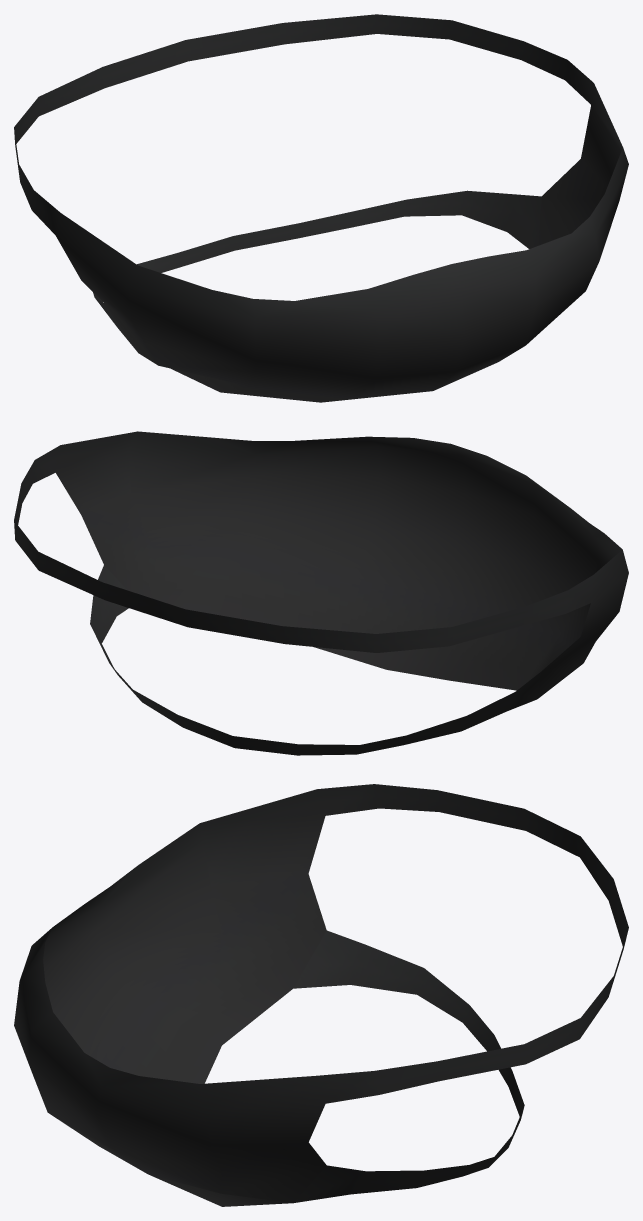
File: Mask_02.glb
3 views of the same model, one above another, from view 1: azimuth 30°, elevation 25°; view 2: azimuth 150°, elevation 25°; view 3: azimuth 270°, elevation 25° (orthographic). The views are drawn at different scales.
Visible parts, largest first — view 1: Mask_02; view 2: Mask_02; view 3: Mask_02.
Boxes of the visible parts, x1,y1,x2,y2 form: Mask_02: (14,14,628,402); Mask_02: (14,431,628,755); Mask_02: (14,784,628,1206).
Bounding box in the file's own units: 0.5667 × 0.2111 × 0.5119.
Materials: 1 (1 with a texture image).
